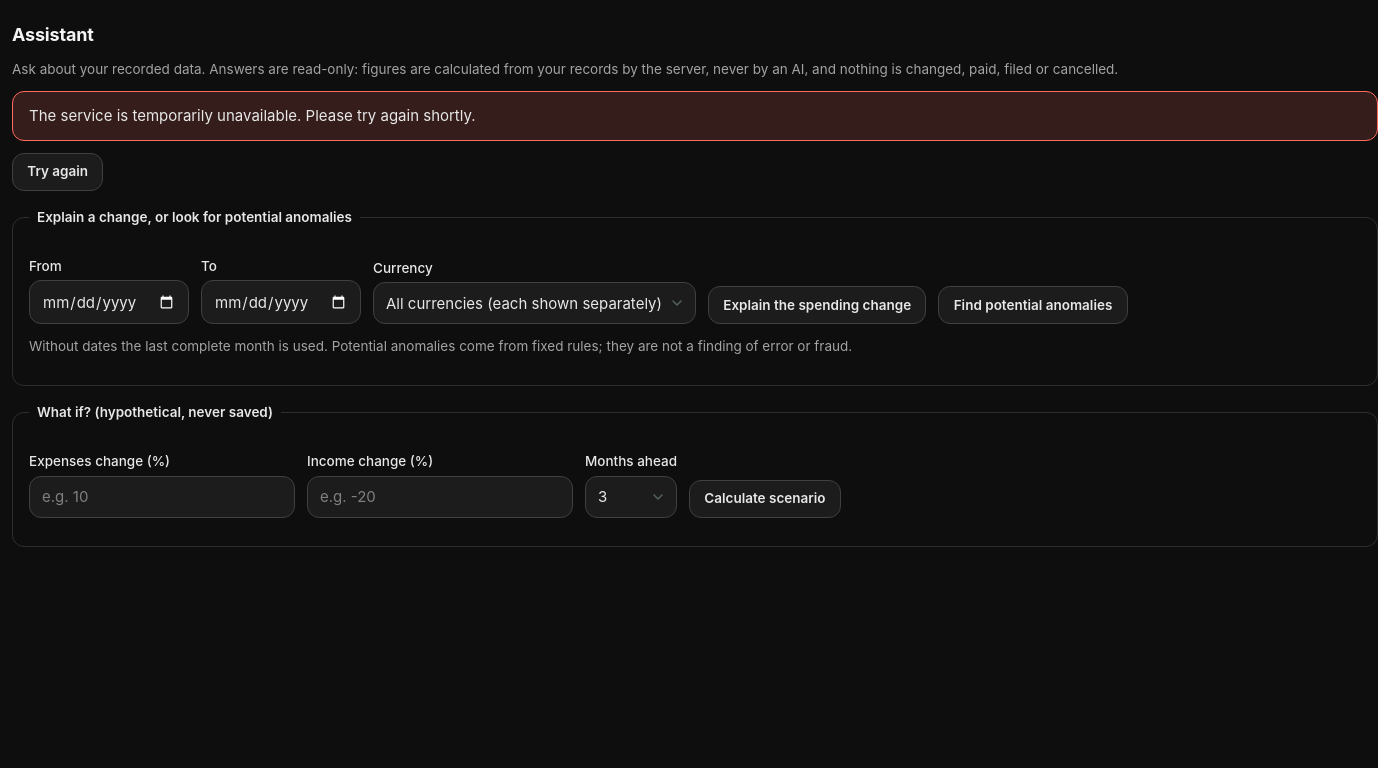
it: assistant › reports a failure to load the assistant and can retry
Check: the message shows "temporarily unavailable", box [29,106,476,125]
Click the button "Try again".
click(58, 172)  # box [12,153,103,191]
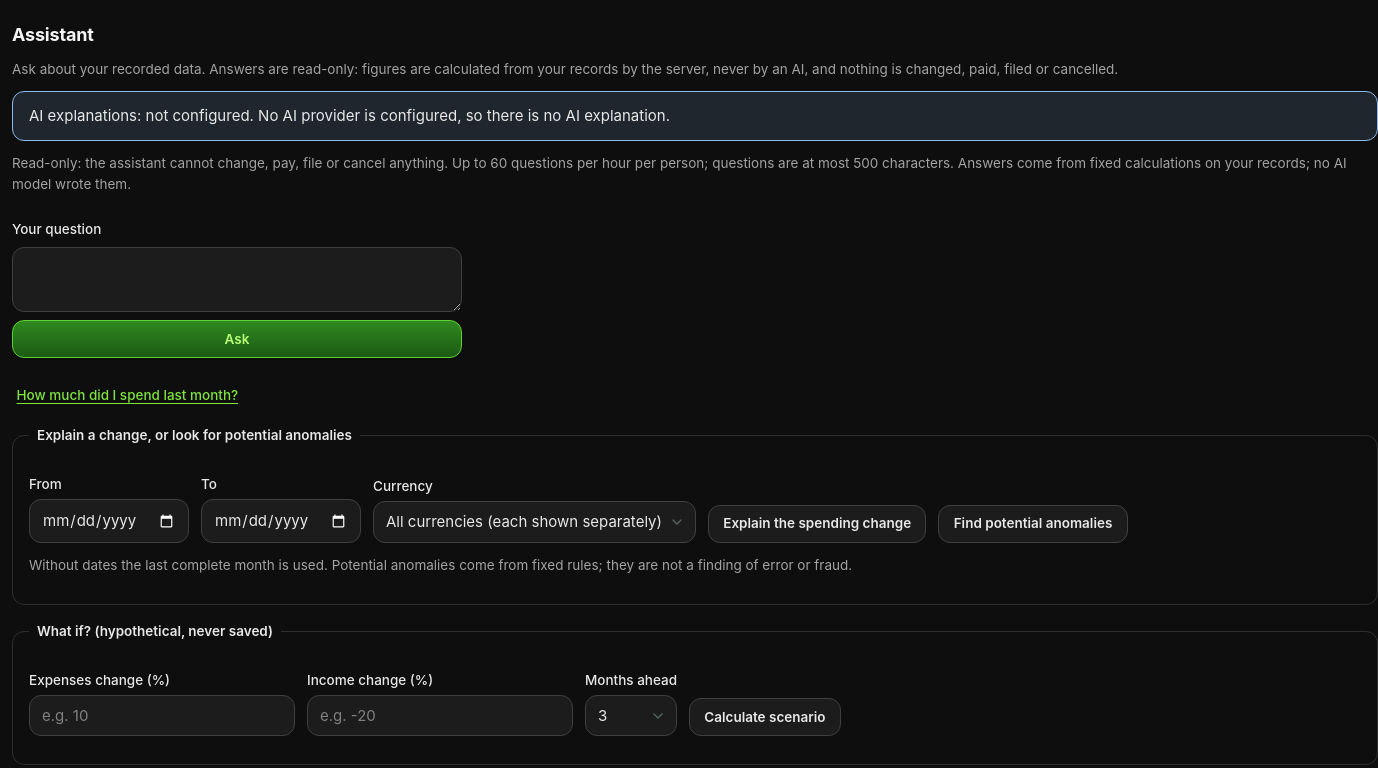
Check: the text box labelled "Your question" is shown, box [12,247,462,312]
